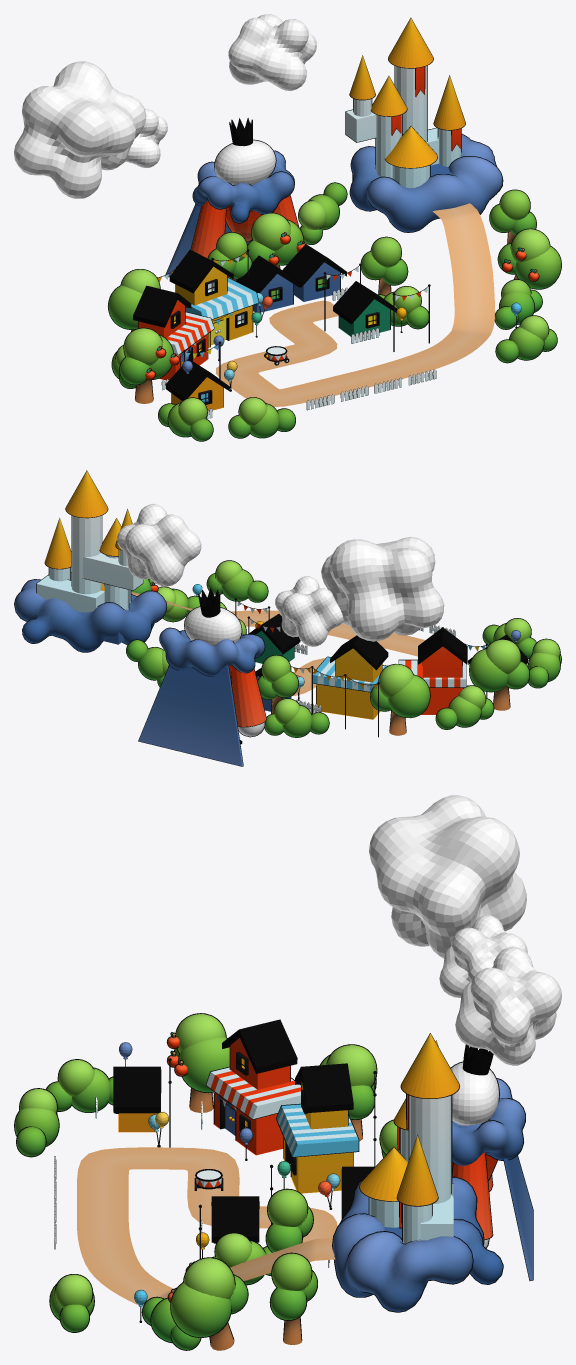
The model's file is environment_guide.fbx.
The picture shows the model from 3 angles, top to bottom: view 1: azimuth 30°, elevation 25°; view 2: azimuth 150°, elevation 25°; view 3: azimuth 270°, elevation 25°; orthographic projection. The views are drawn at different scales.
Parts seen in each view (by area): view 1: King.001, Path, Mball.001, King, Mball.002, House2, House1, Tree1_apple.001, Tree1_apple.002, Tree1_apple, House4.001, House3.001 (+14 smaller); view 2: King, King.001, Mball.001, Mball.002, House2, House1, Mball.010, Tree1_apple.001, Tree1, Path, Bush.002, Bush.008 (+7 smaller); view 3: King.001, Mball.001, Path, King, Mball.002, House1, House2, Tree1_apple.002, Tree1_apple.001, Mball.010, Tree2.002, House4 (+9 smaller).
Part boxes in pixels (bbox=[...]): King.001: bbox=[345, 17, 503, 232]; Path: bbox=[215, 203, 495, 406]; Mball.001: bbox=[14, 61, 146, 198]; King: bbox=[165, 118, 298, 277]; Mball.002: bbox=[228, 14, 316, 90]; House2: bbox=[169, 249, 259, 347]; House1: bbox=[133, 285, 214, 380]; Tree1_apple.001: bbox=[119, 327, 179, 403]; Tree1_apple.002: bbox=[497, 228, 561, 289]; Tree1_apple: bbox=[247, 212, 305, 268]; House4.001: bbox=[333, 281, 397, 336]; House3.001: bbox=[282, 244, 346, 301]; King: bbox=[138, 588, 266, 766]; King.001: bbox=[14, 470, 166, 652]; Mball.001: bbox=[321, 537, 444, 641]; Mball.002: bbox=[117, 503, 201, 586]; House2: bbox=[313, 635, 388, 719]; House1: bbox=[398, 627, 467, 714]; Mball.010: bbox=[275, 576, 343, 646]; Tree1_apple.001: bbox=[469, 639, 529, 710]; Tree1: bbox=[370, 663, 430, 735]; Path: bbox=[131, 592, 425, 695]; Bush.002: bbox=[264, 698, 329, 737]; Bush.008: bbox=[206, 560, 268, 602]; King.001: bbox=[332, 1033, 503, 1312]; Mball.001: bbox=[369, 795, 526, 958]; Path: bbox=[77, 1147, 337, 1305]; King: bbox=[450, 1044, 533, 1281]; Mball.002: bbox=[455, 946, 561, 1065]; House1: bbox=[205, 1019, 300, 1155]; House2: bbox=[276, 1063, 359, 1193]; Tree1_apple.002: bbox=[167, 1257, 248, 1350]; Tree1_apple.001: bbox=[166, 1013, 229, 1112]; Mball.010: bbox=[439, 915, 527, 997]; Tree2.002: bbox=[269, 1252, 317, 1344]; House4: bbox=[113, 1066, 161, 1132].
Size of the model in its own units: 4238 by 2267 by 3351.
